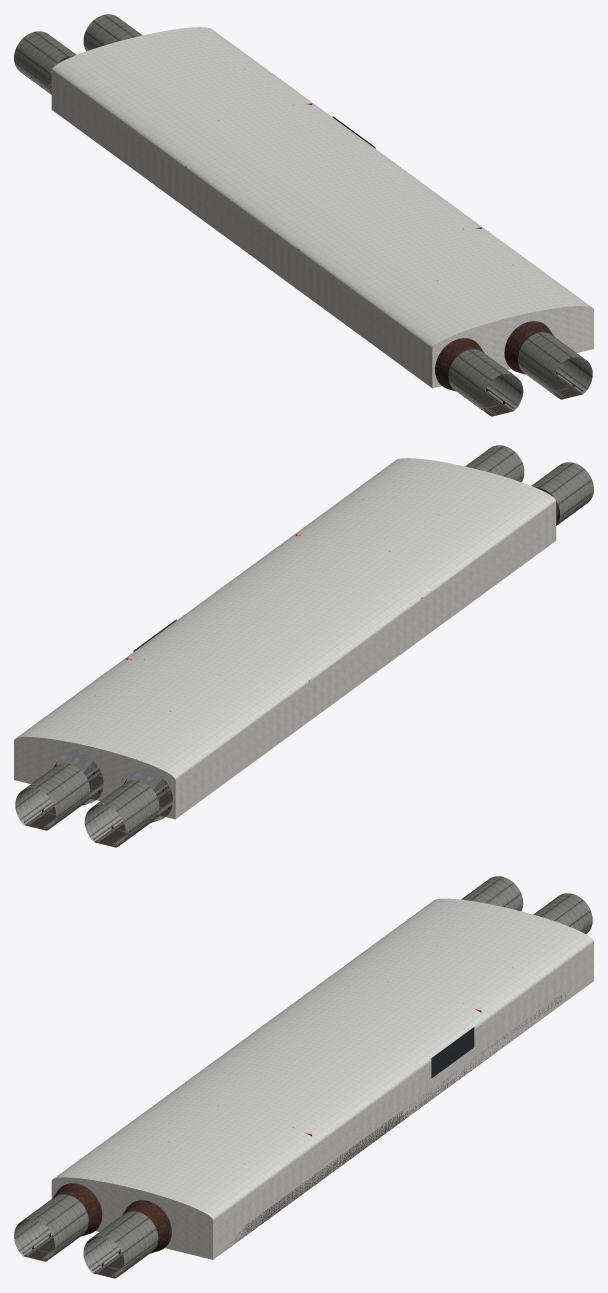
Rendered from station_hillhead.glb.
3 views of the same model, one above another, from view 1: azimuth 30°, elevation 25°; view 2: azimuth 150°, elevation 25°; view 3: azimuth 330°, elevation 25° (orthographic).
Parts seen in each view (by area): view 1: hall_shell, end_walls; view 2: hall_shell, end_walls; view 3: hall_shell, end_walls, hall_art.
Boxes of the visible parts, x1,y1,x2,y2 form: hall_shell: [48, 27, 591, 415]; end_walls: [14, 14, 593, 416]; hall_shell: [16, 458, 575, 846]; end_walls: [14, 445, 593, 847]; hall_shell: [22, 898, 593, 1277]; end_walls: [14, 876, 592, 1278]; hall_art: [431, 1027, 474, 1078].
Size of the model in its own units: 13.22 by 4.67 by 66.4.
Materials: 33 (21 with a texture image).
